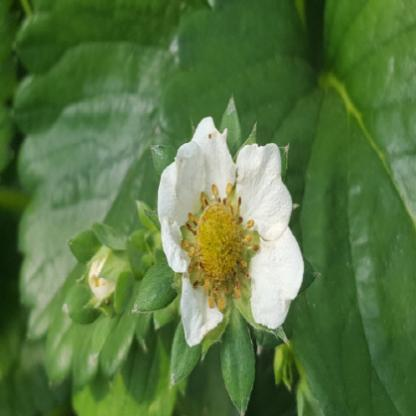Strawberry_Blossom_Blight: (179, 179, 262, 313)
